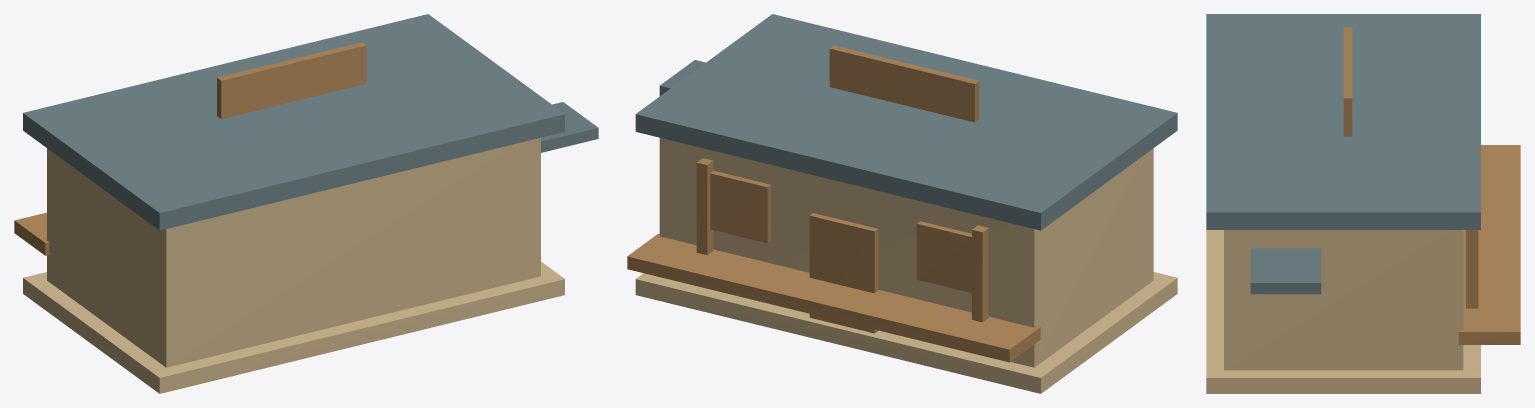
File: Bakery-Shop.glb
3 renders of one model, left to right at view 1: azimuth 30°, elevation 25°; view 2: azimuth 150°, elevation 25°; view 3: azimuth 270°, elevation 25°, orthographic.
Parts seen in each view (by area): view 1: general-store-static-store-cream, general-store-static-store-iron, general-store-static-store-timber; view 2: general-store-static-store-iron, general-store-static-store-cream, general-store-static-store-timber, general-store-static-store-galv, general-store-static-store-teal; view 3: general-store-static-store-iron, general-store-static-store-cream, general-store-static-store-timber.
Boxes of the visible parts, x1,y1,x2,y2 form: general-store-static-store-cream: (23, 137, 564, 393); general-store-static-store-iron: (23, 14, 598, 230); general-store-static-store-timber: (14, 42, 366, 255); general-store-static-store-iron: (635, 14, 1177, 230); general-store-static-store-cream: (635, 138, 1177, 393); general-store-static-store-timber: (627, 45, 1040, 362); general-store-static-store-galv: (710, 171, 971, 292); general-store-static-store-teal: (809, 213, 878, 333); general-store-static-store-iron: (1206, 14, 1480, 294); general-store-static-store-cream: (1206, 230, 1480, 393); general-store-static-store-timber: (1343, 27, 1520, 344).
Size of the model in its own units: 6.03 by 2.89 by 3.55.
